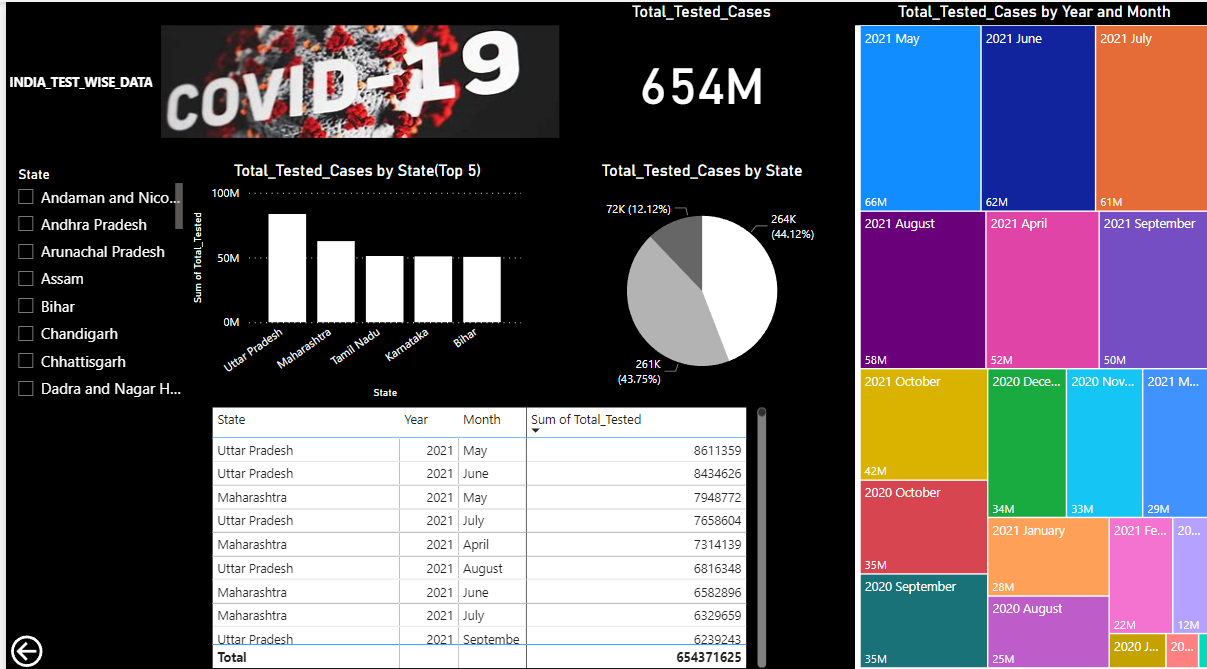

This screenshot's page, from the dashboard's own definition file:
{"tool":"powerbi","page":{"name":"Total_tested","canvas":[1280,720],"ordinal":2},"visuals":[{"type":"card","title":"Total_Tested_Cases","fields":{"Values":["Sum(statewise_tested_numbers_data.Total_Tested)"]},"box":[589.7,0,294,144.6],"z":0},{"type":"columnChart","title":"Total_Tested_Cases by State(Top 5)","fields":{"Category":["statewise_tested_numbers_data.State"],"Y":["Sum(statewise_tested_numbers_data.Total_Tested)"]},"box":[192.3,168.5,359.2,255.9],"z":1000},{"type":"pieChart","title":"Total_Tested_Cases by State","fields":{"Category":["statewise_tested_numbers_data.State"],"Y":["Sum(statewise_tested_numbers_data.Total_Tested)"]},"box":[591.3,168.5,292.5,255.9],"z":2000},{"type":"tableEx","fields":{"Values":["statewise_tested_numbers_data.State","statewise_tested_numbers_data.Updated On.Variation.Date Hierarchy.Year","statewise_tested_numbers_data.Updated On.Variation.Date Hierarchy.Month","Sum(statewise_tested_numbers_data.Total_Tested)"]},"box":[213,424.4,597.6,286.1],"z":3000},{"type":"treemap","title":"Total_Tested_Cases by Year and Month","fields":{"Group":["statewise_tested_numbers_data.Updated On.Variation.Date Hierarchy.Year","statewise_tested_numbers_data.Updated On.Variation.Date Hierarchy.Month"],"Values":["Sum(statewise_tested_numbers_data.Total_Tested)"]},"box":[899.6,0,379.9,710.5],"z":4000},{"type":"slicer","fields":{"Values":["statewise_tested_numbers_data.State"]},"box":[0,168.5,192.3,255.9],"z":5000},{"type":"image","box":[158.9,0,432.3,168.5],"z":6000},{"type":"shape","box":[0,0,159,168],"z":7000},{"type":"actionButton","box":[0,665.7,100,44.3],"z":8000}]}

Visuals, with their boxes in screenshot pixels (x1, y1, x2, y2), scaled from the page's 1280x720 canvas onto the 1207x669 screenshot:
"Total_Tested_Cases" card: <region>556, 0, 833, 134</region>
"Total_Tested_Cases by State(Top 5)" columnChart: <region>181, 157, 520, 394</region>
"Total_Tested_Cases by State" pieChart: <region>558, 157, 833, 394</region>
tableEx - statewise_tested_numbers_data.State x statewise_tested_numbers_data.Updated On.Variation.Date Hierarchy.Year: <region>201, 394, 764, 660</region>
"Total_Tested_Cases by Year and Month" treemap: <region>848, 0, 1206, 660</region>
slicer - statewise_tested_numbers_data.State: <region>0, 157, 181, 394</region>
image: <region>150, 0, 557, 157</region>
shape: <region>0, 0, 150, 156</region>
actionButton: <region>0, 619, 94, 660</region>
